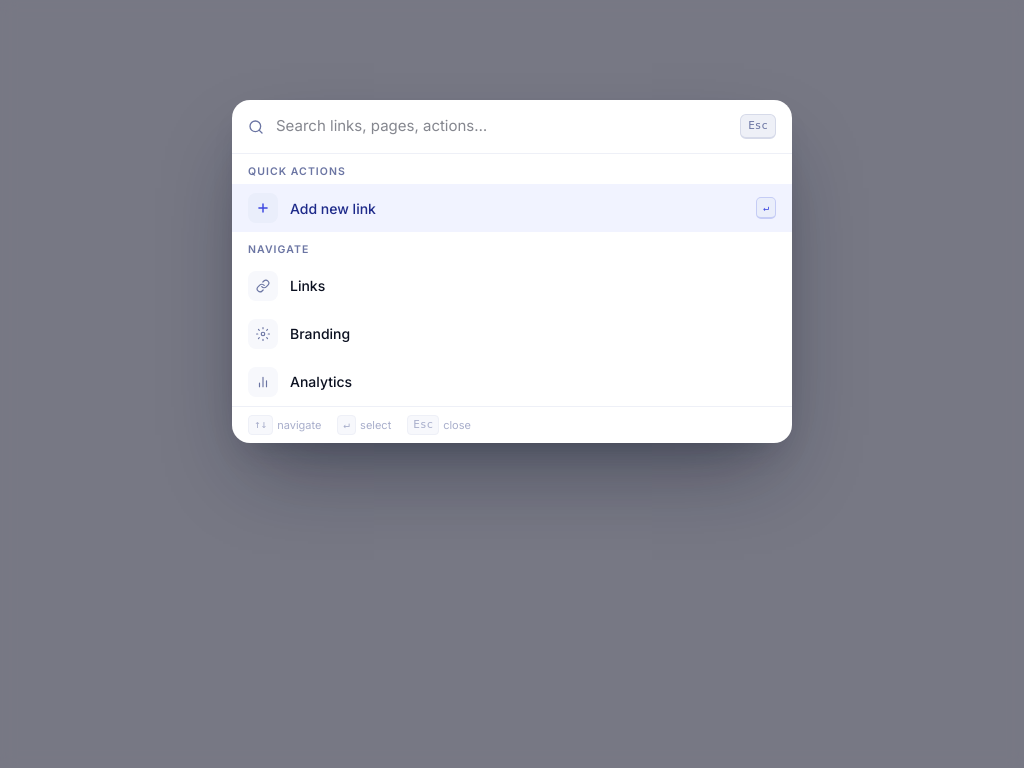
CommandPalette › filters navigation items by query
The width and height of the screenshot is (1024, 768).
In the field with placeholder "Search links, pages, actions…": [502, 127] box [276,115,728,138], type "branding"
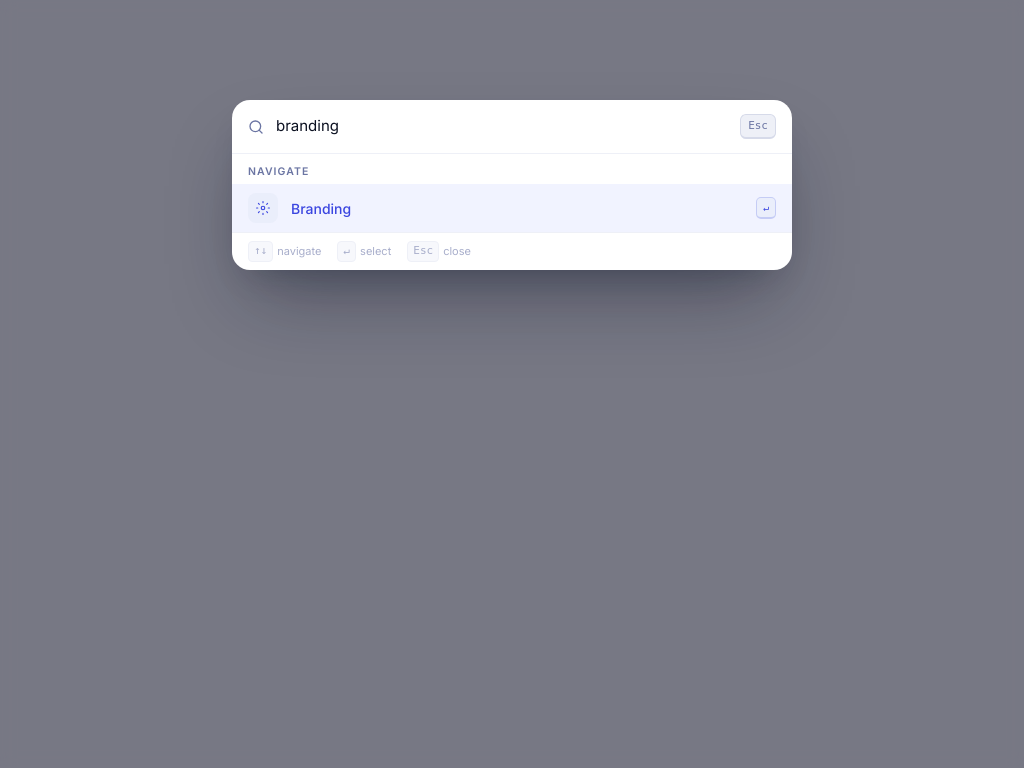
Expected: the text "Branding" is shown, [290,200,352,217]
Expected: the button "Analytics" is gone
